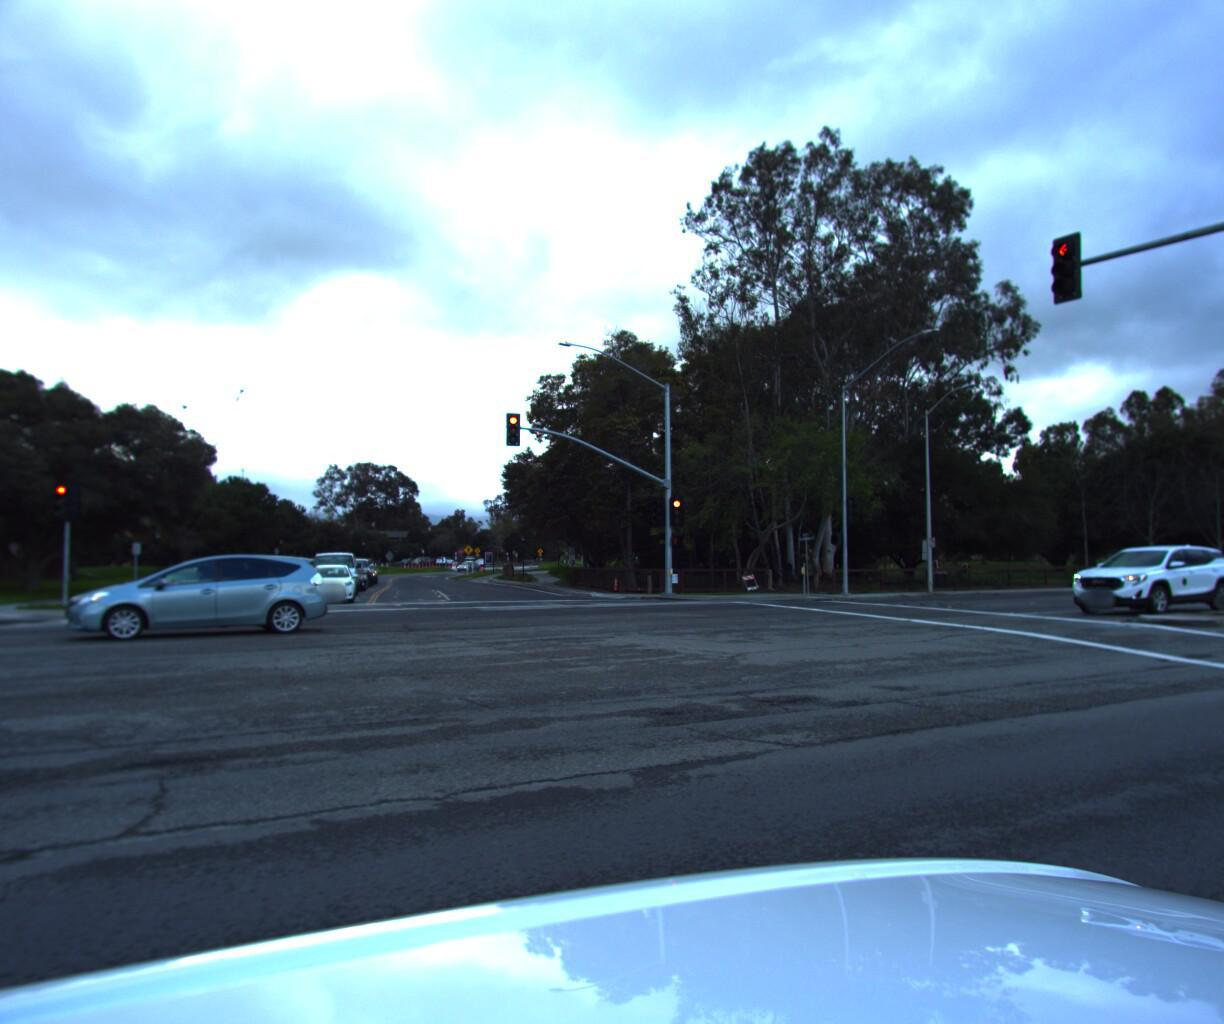car: (54, 550, 330, 644), (1056, 534, 1224, 614), (301, 561, 359, 605), (305, 549, 359, 596), (336, 557, 377, 587), (334, 560, 372, 590)
